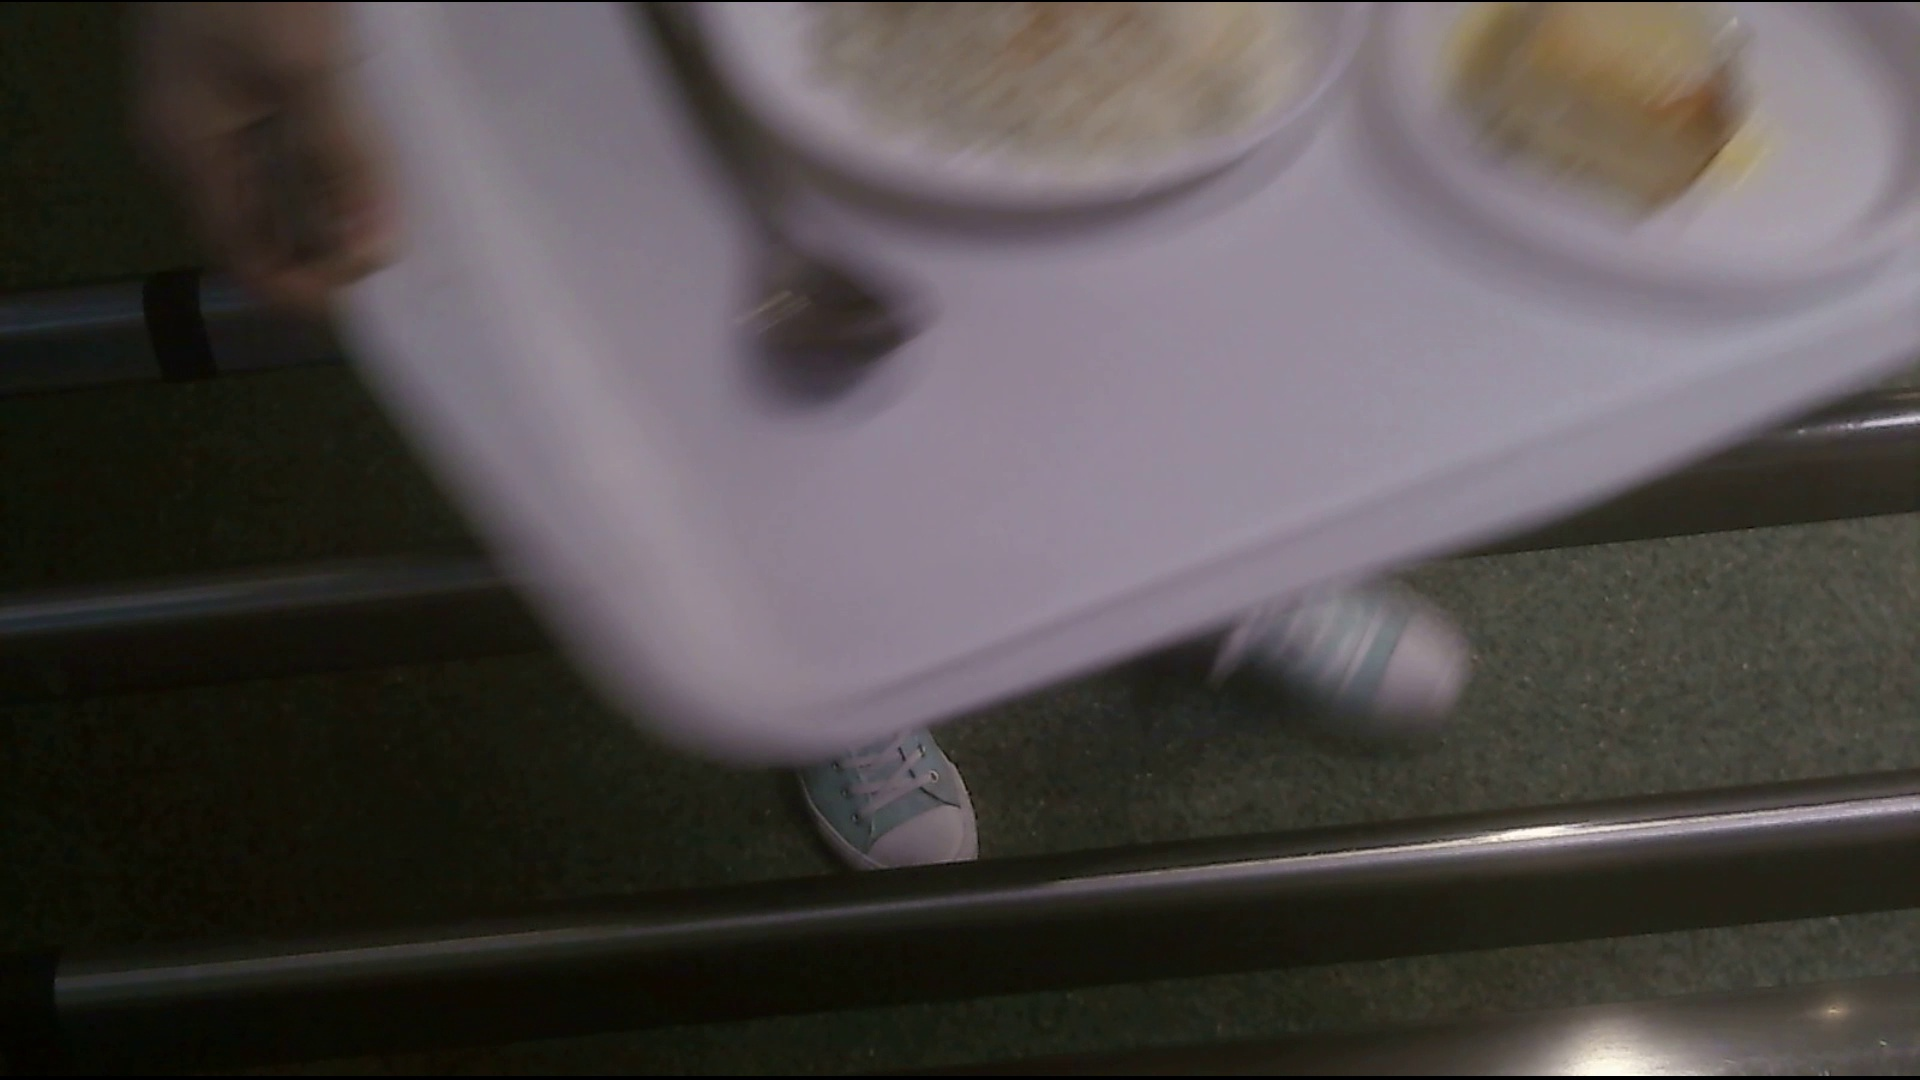cutlery: (593, 7, 930, 382)
plate: (690, 1, 1378, 241), (1383, 1, 1920, 287)
